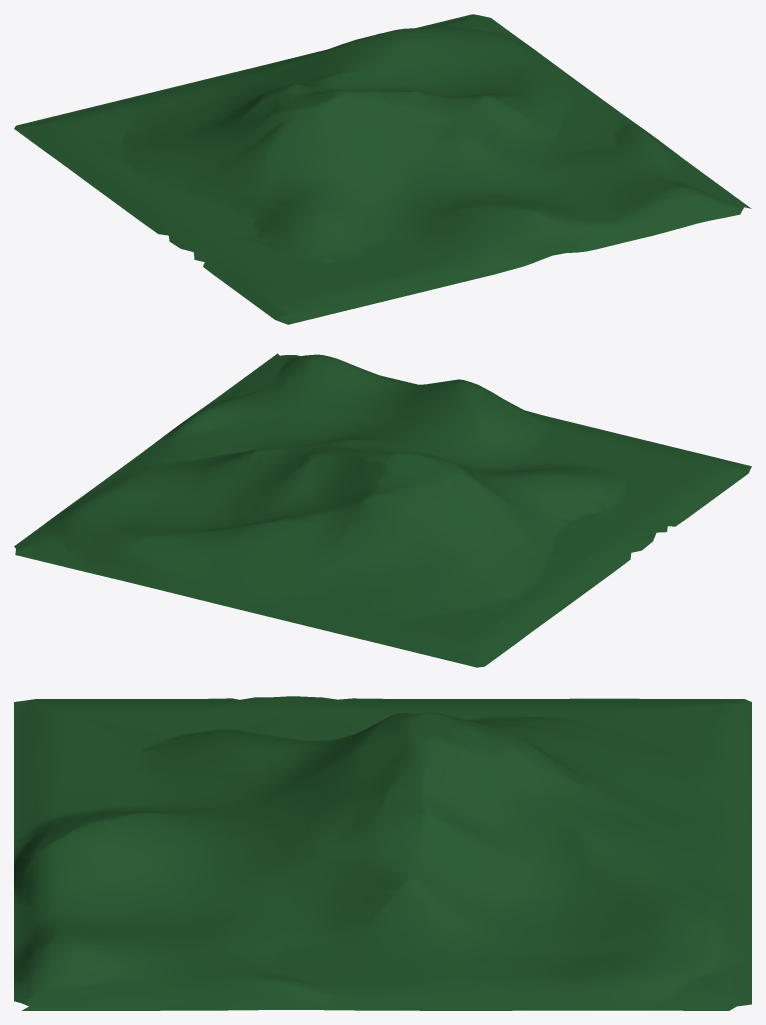
File: Hills_Medium_1.fbx
The picture shows the model from 3 angles, top to bottom: view 1: azimuth 30°, elevation 25°; view 2: azimuth 150°, elevation 25°; view 3: azimuth 270°, elevation 25°; orthographic projection. The views are drawn at different scales.
Visible parts, largest first — view 1: Hills_Medium_1_LOD0; view 2: Hills_Medium_1_LOD0; view 3: Hills_Medium_1_LOD0.
Boxes of the visible parts, box(x1,y1,x2,y2) form: Hills_Medium_1_LOD0: box(14, 14, 751, 324); Hills_Medium_1_LOD0: box(14, 353, 751, 667); Hills_Medium_1_LOD0: box(14, 696, 751, 1010).
Size of what is drawn, in the model's own units: 980 by 145 by 980.
